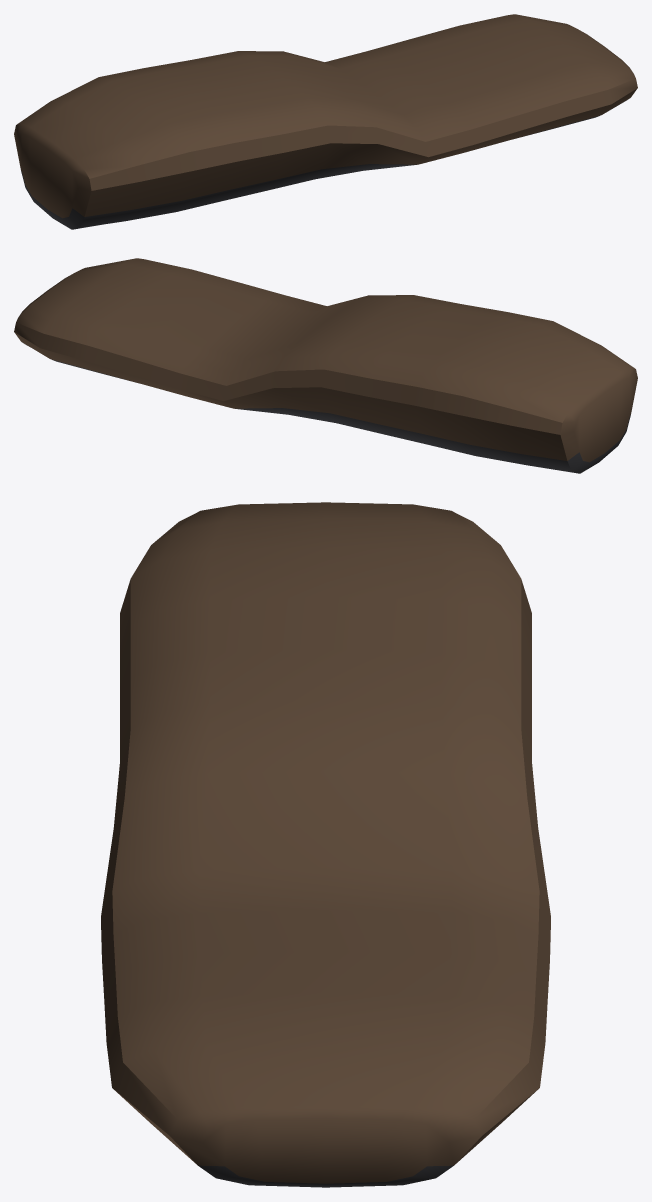
File: touring_lod1.glb
3 views of the same model, one above another, from view 1: azimuth 30°, elevation 25°; view 2: azimuth 150°, elevation 25°; view 3: azimuth 270°, elevation 25° (orthographic). The views are drawn at different scales.
Visible parts, largest first — view 1: touring_lod1; view 2: touring_lod1; view 3: touring_lod1.
Part boxes in pixels (x1=…): touring_lod1: x1=14, y1=14, x2=637, y2=229; touring_lod1: x1=14, y1=258, x2=637, y2=473; touring_lod1: x1=101, y1=502, x2=550, y2=1187.
Bounding box in the file's own units: 1 × 0.1649 × 0.3499.
